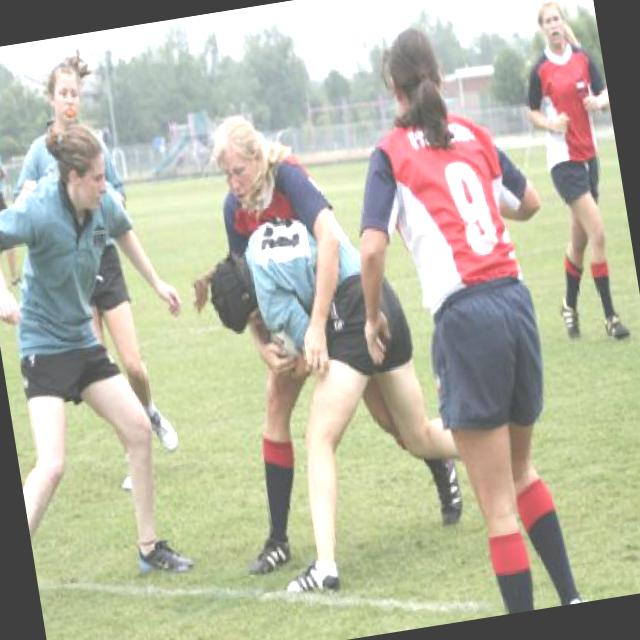Person: (319, 9, 604, 628), (177, 93, 470, 578), (202, 191, 479, 598), (0, 110, 223, 598), (0, 41, 179, 473), (512, 0, 639, 370), (0, 122, 25, 291)
